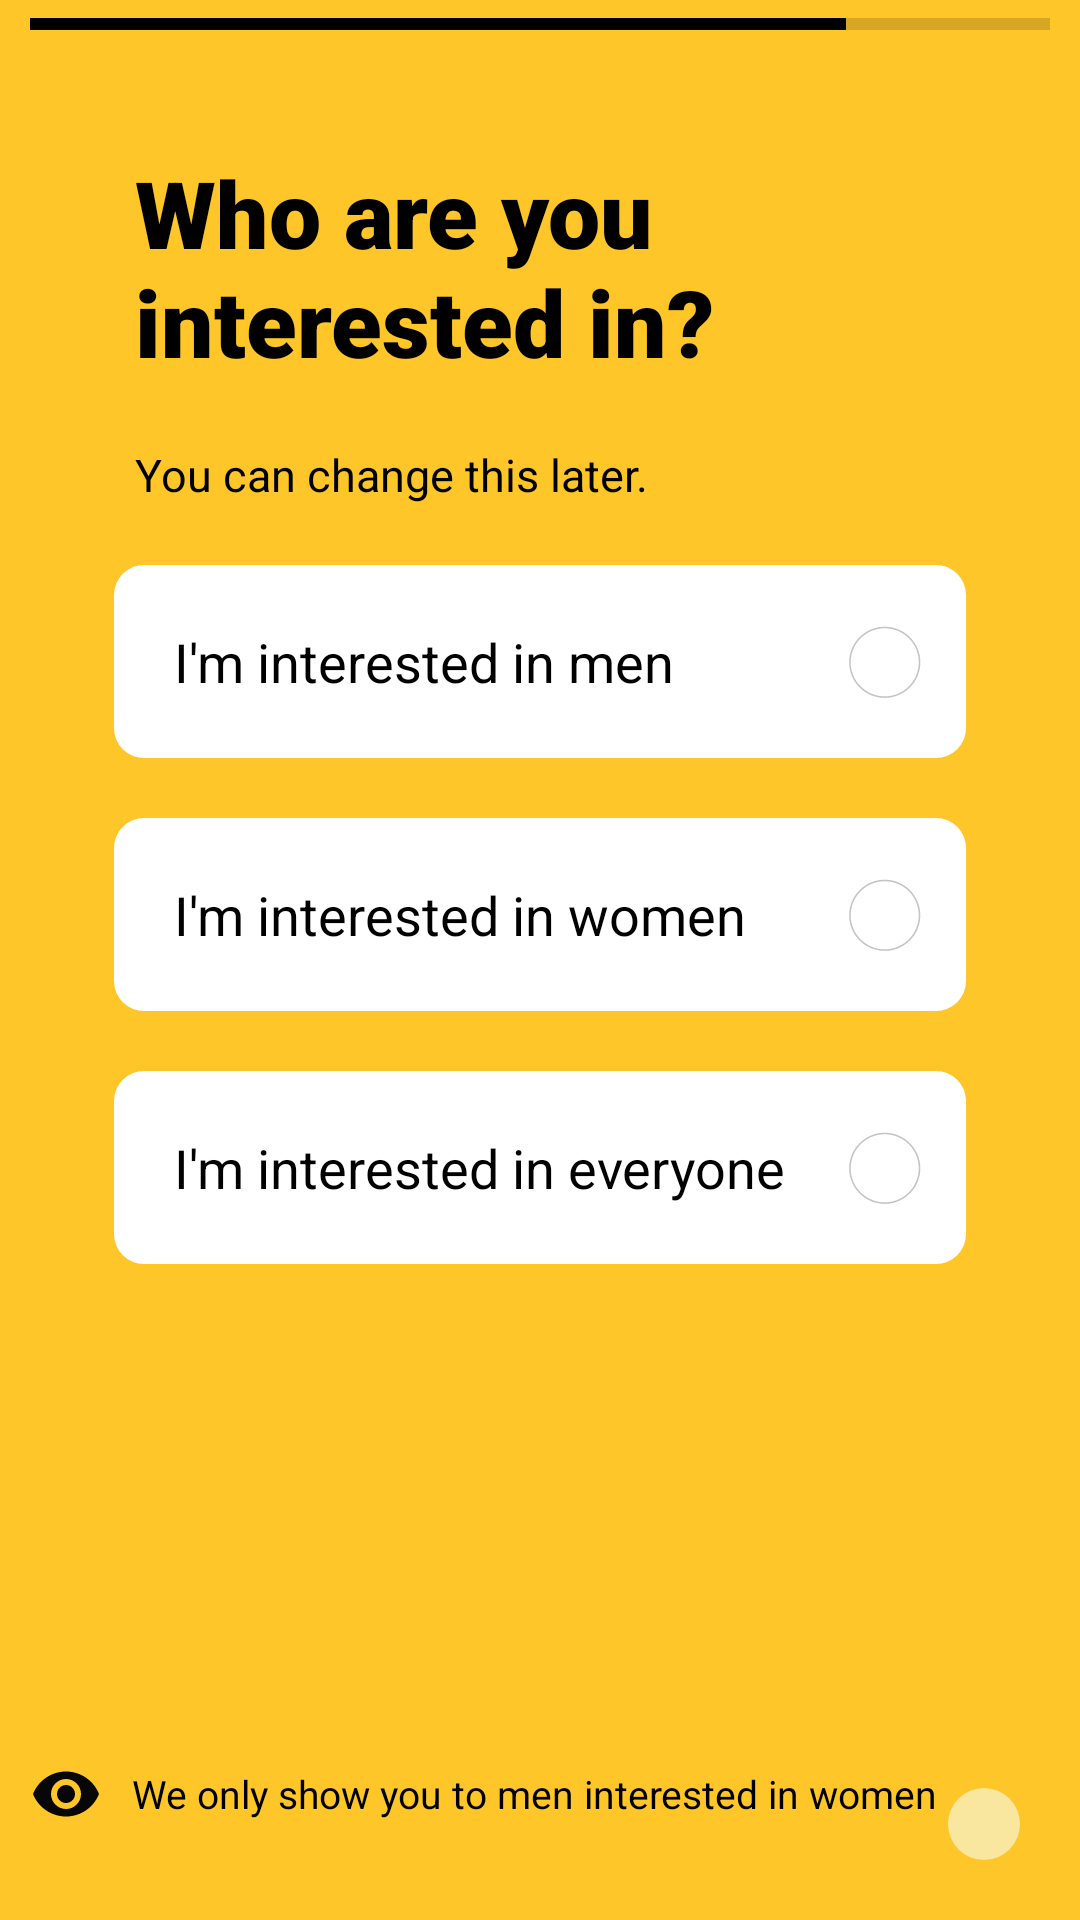

Named icons in this screenshot (1080x1920) and their centers, (x,y):
radioonenne: (884,662), (884,915), (884,1168)
